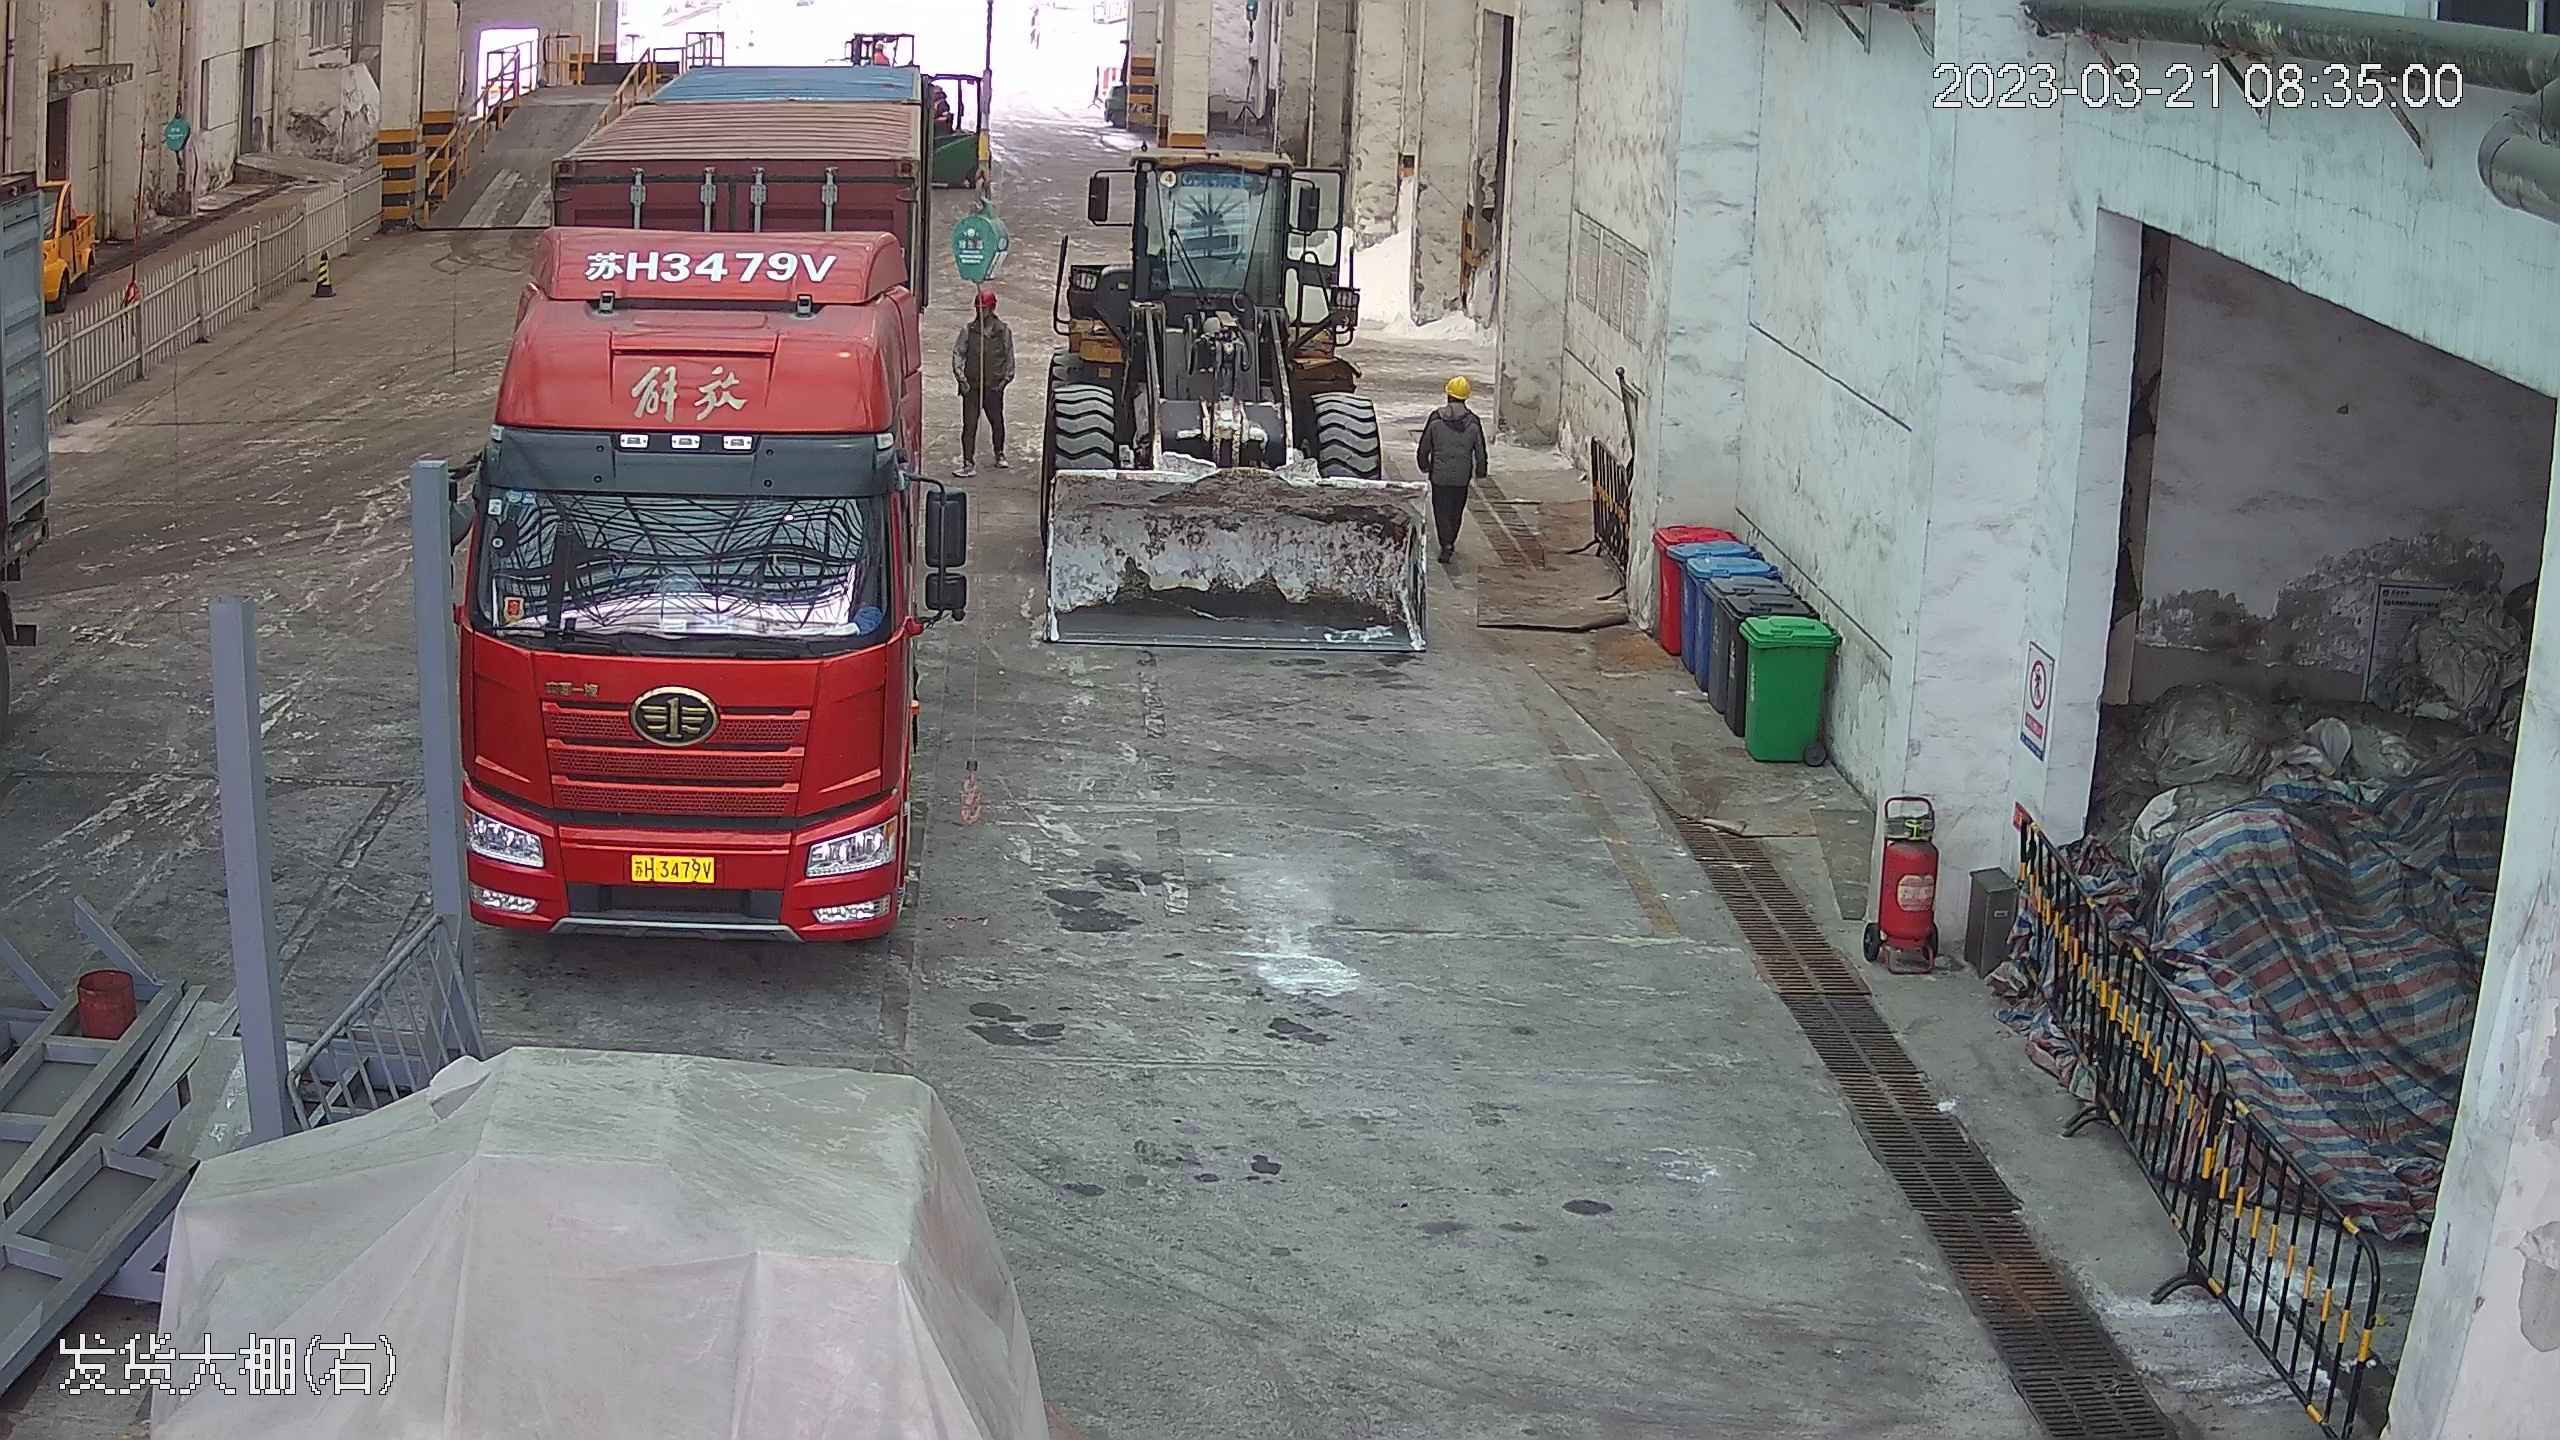head: (1423, 373, 1487, 441), (962, 285, 1006, 340)
helmet: (1444, 373, 1476, 399), (973, 288, 998, 310)
people: (1415, 368, 1496, 576), (954, 283, 1014, 464)
truck: (431, 35, 962, 944)
